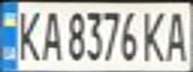3: (84, 7, 106, 62)
6: (118, 7, 142, 62)
7: (103, 8, 121, 62)
8: (63, 7, 87, 62)
A: (163, 7, 193, 62), (36, 7, 63, 62)
K: (9, 6, 45, 62), (139, 7, 169, 62)
